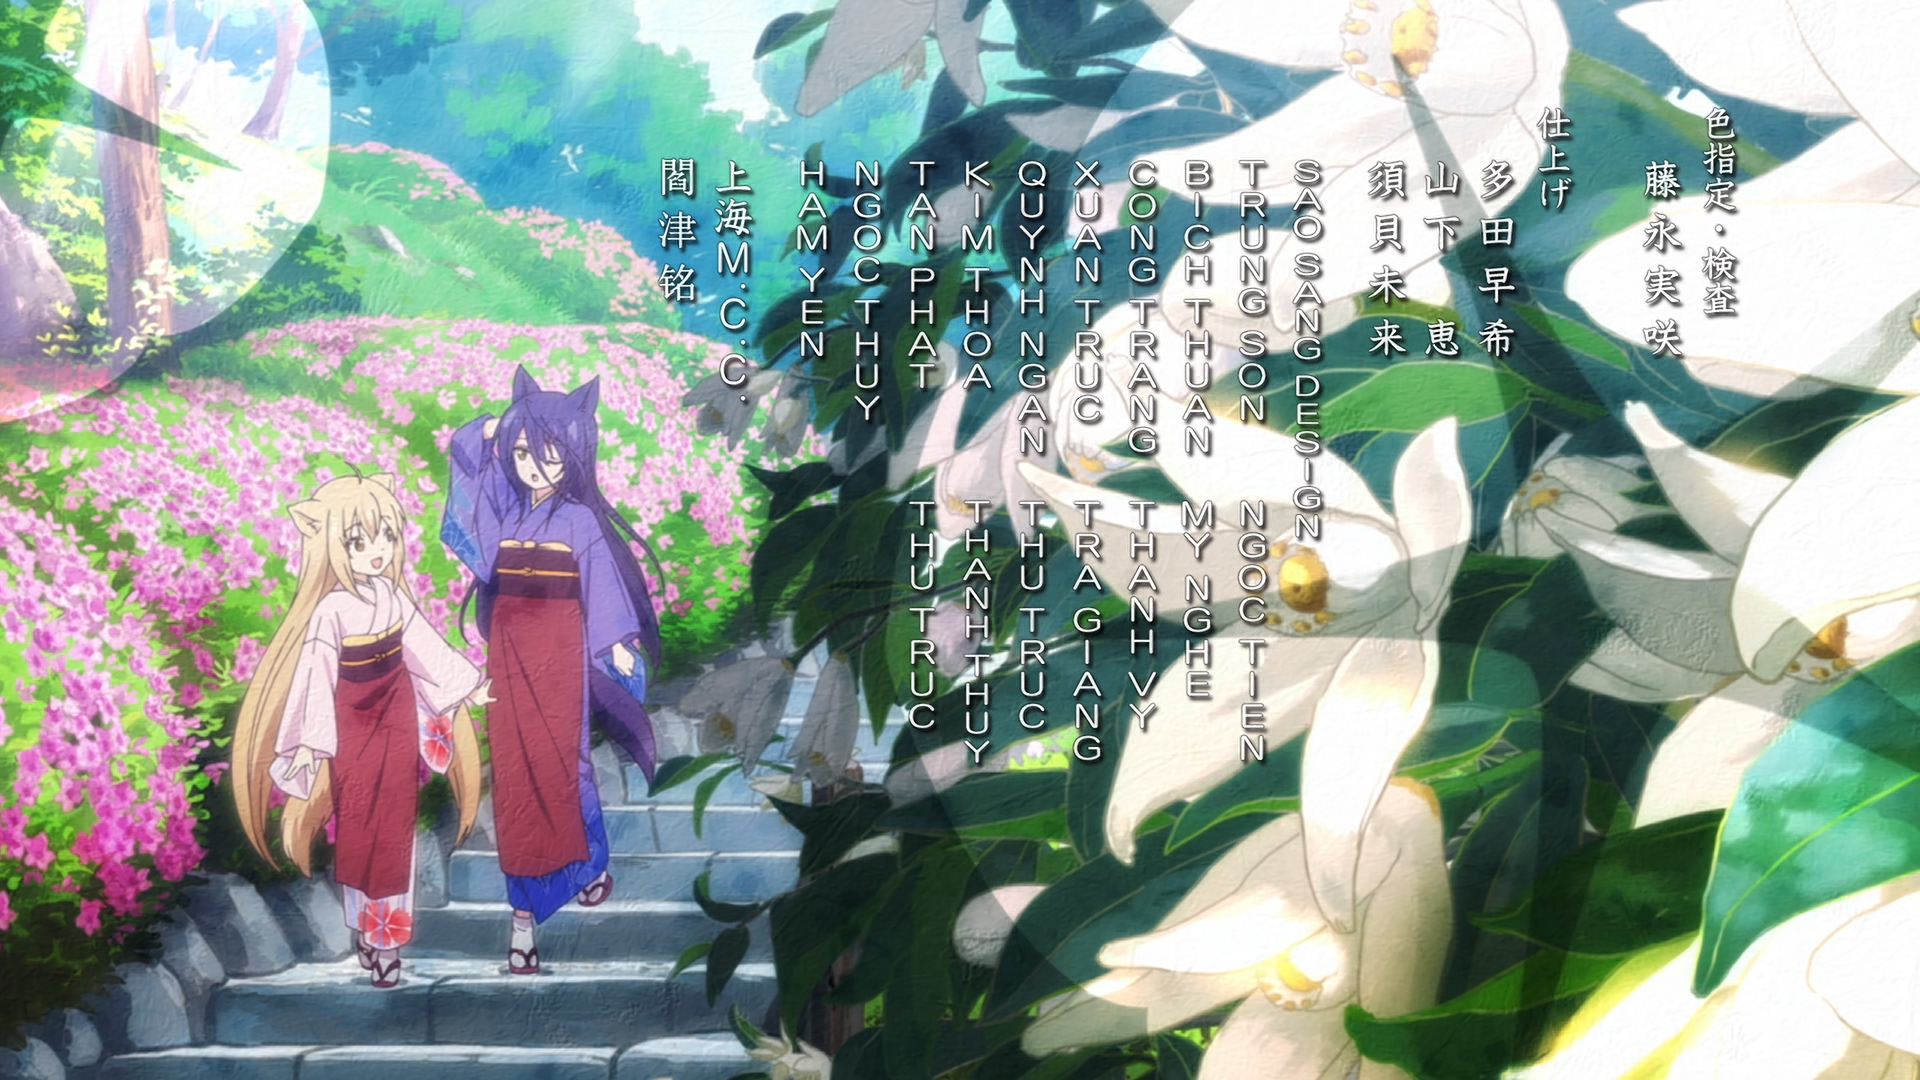柚: (232, 462, 493, 989)
皋: (440, 365, 669, 977)
